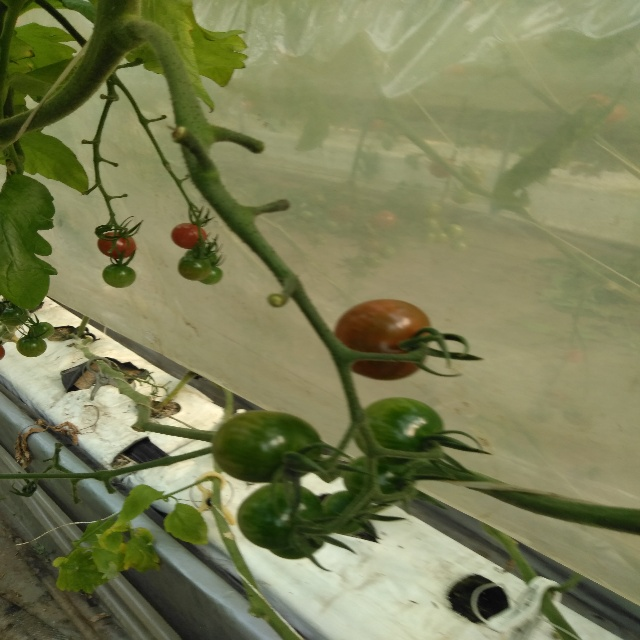l_fully_ripened: (97, 231, 136, 259), (171, 223, 207, 250)
l_green: (212, 410, 322, 482), (353, 396, 443, 465), (237, 483, 324, 550), (344, 455, 412, 503), (101, 264, 136, 289), (178, 255, 212, 280), (16, 335, 47, 357), (0, 306, 29, 326), (198, 266, 223, 285), (30, 322, 54, 339)
l_half_ripened: (334, 299, 432, 380)
